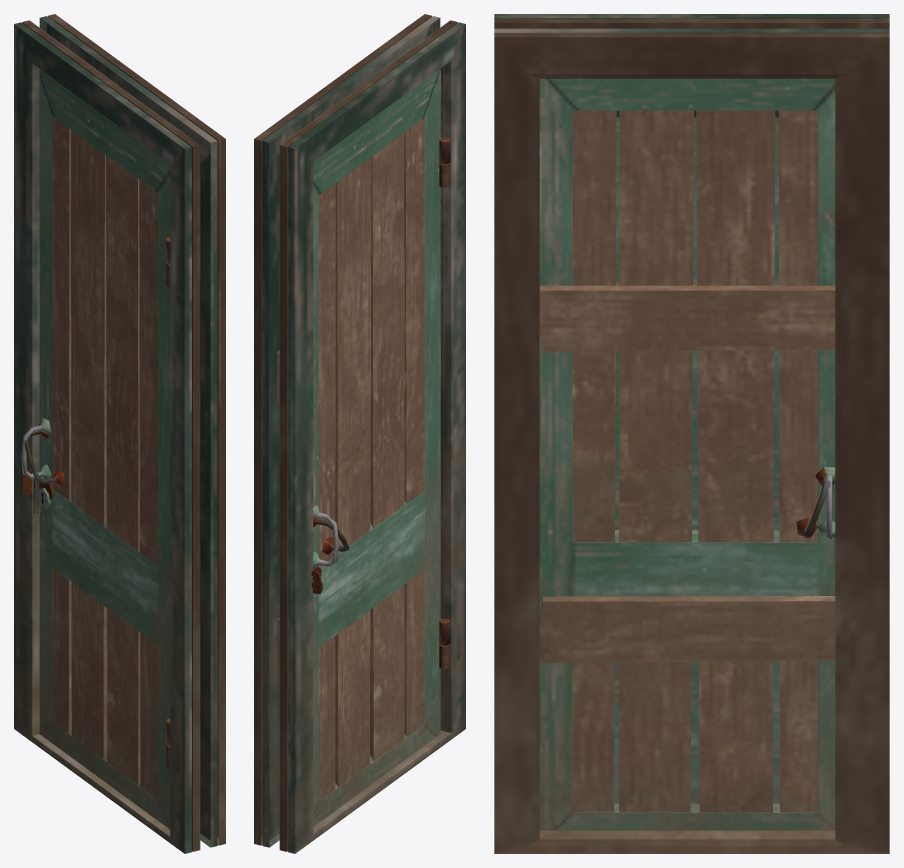
Rendered from doors.glb.
3 views of the same model, side by side, from view 1: azimuth 30°, elevation 25°; view 2: azimuth 150°, elevation 25°; view 3: azimuth 270°, elevation 25° (orthographic). The views are drawn at different scales.
Visible parts, largest first — view 1: wood_door_OLD_W, wood_frame_G, wood_door_G, wood_frame_OLD_W; view 2: wood_door_OLD_W, wood_frame_G, wood_door_G, wood_frame_OLD_W; view 3: wood_door_OLD_W, wood_frame_OLD_W, wood_door_G, wood_frame_G.
Boxes of the visible parts, x1,y1,x2,y2 form: wood_door_OLD_W: (22,116,170,798); wood_frame_G: (14,16,217,853); wood_door_G: (21,69,170,829); wood_frame_OLD_W: (22,14,225,851); wood_door_OLD_W: (277,71,449,801); wood_frame_G: (262,16,465,853); wood_door_G: (313,69,450,826); wood_frame_OLD_W: (254,14,457,851); wood_door_OLD_W: (539,110,835,812); wood_frame_OLD_W: (494,18,889,853); wood_door_G: (539,78,835,830); wood_frame_G: (494,14,889,33).
Size of the model in its own units: 0.2067 by 2.05 by 0.9.
1 material, 1 textured.
